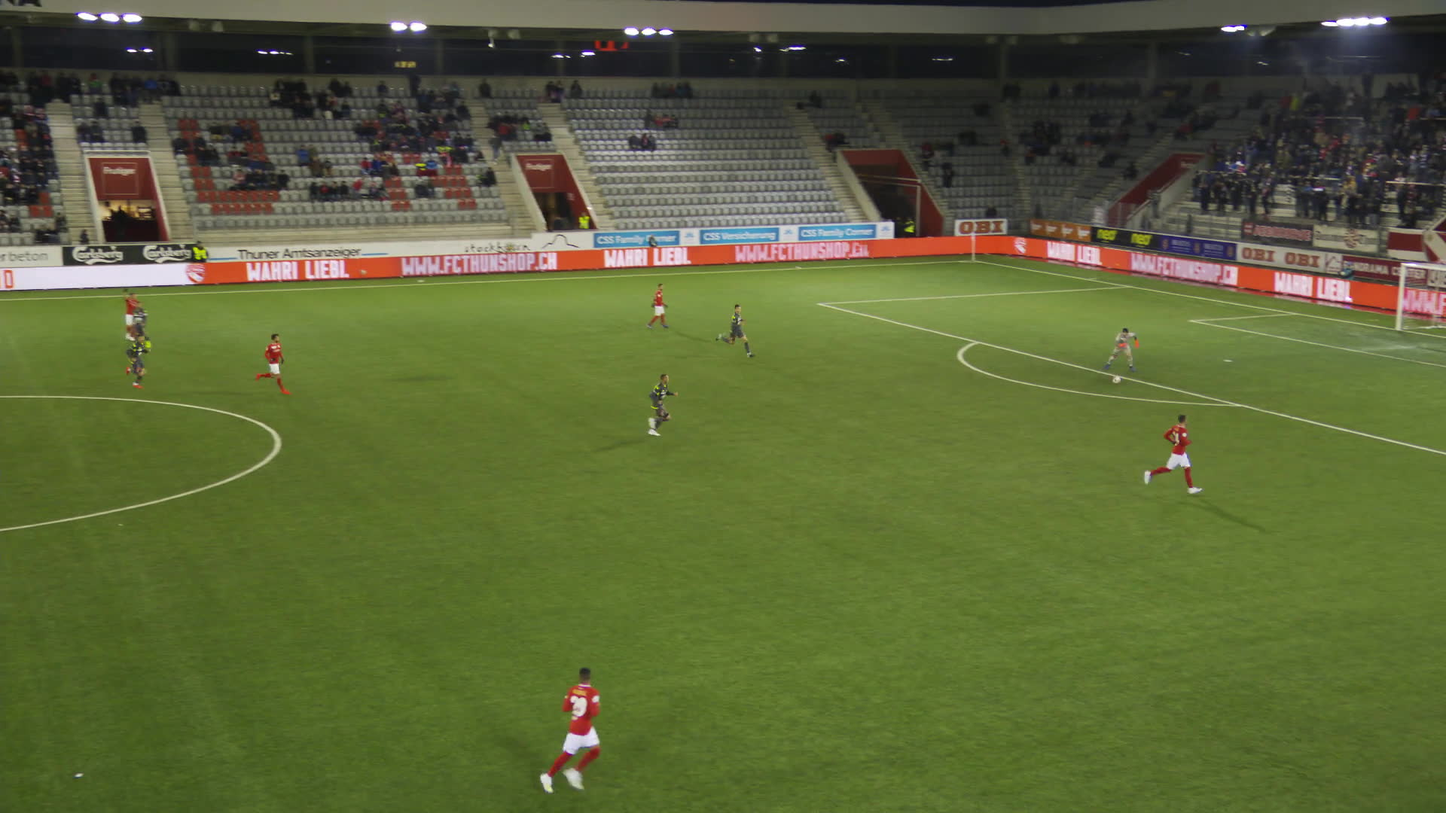ball: (1114, 372, 1124, 379)
player: (525, 670, 603, 797), (1151, 415, 1197, 497), (633, 371, 679, 435), (115, 330, 157, 388), (261, 333, 288, 394), (721, 305, 749, 358), (125, 289, 145, 342), (1114, 327, 1137, 372), (651, 283, 673, 330), (135, 300, 154, 350)
